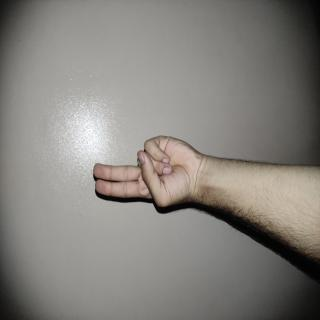TA: (78, 115, 144, 278)
